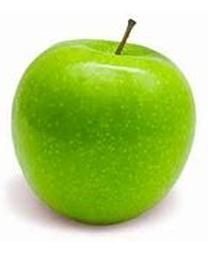apple: (11, 19, 195, 226)
